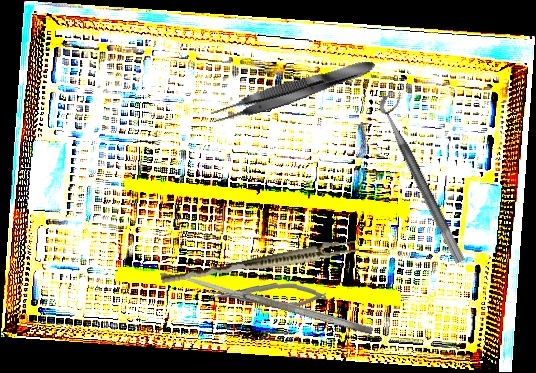Fixation Ring: (375, 89, 479, 265)
Needle Holder: (210, 279, 327, 310)
Spatula Surgical: (186, 273, 374, 337)
Tissue Forceps: (207, 53, 380, 130), (160, 235, 360, 291)
